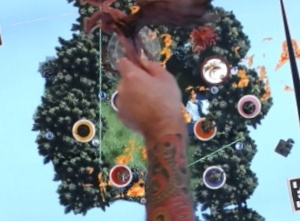orange: (191, 113, 221, 143)
pink: (235, 91, 263, 120)
red: (107, 160, 134, 189)
violet: (198, 160, 229, 191)
yellow: (67, 114, 96, 144)
